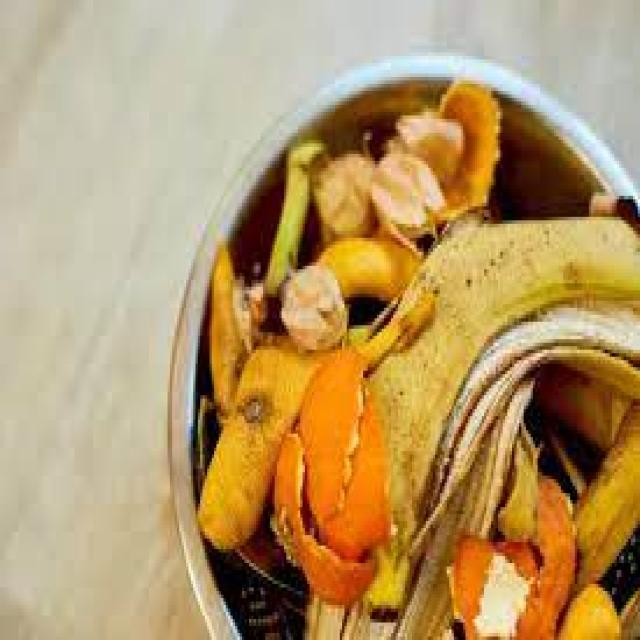Wet: (174, 91, 640, 640), (314, 178, 640, 640), (280, 310, 398, 598), (205, 290, 317, 572)
